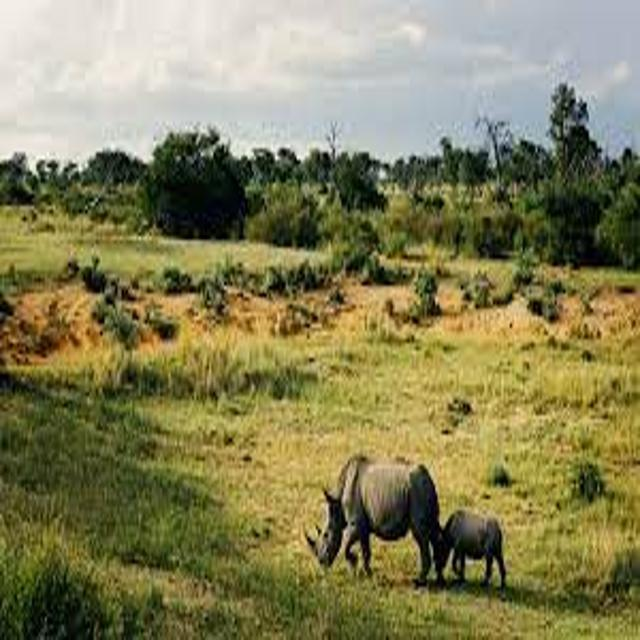Rinoceros: (298, 445, 452, 603), (436, 488, 536, 604)
